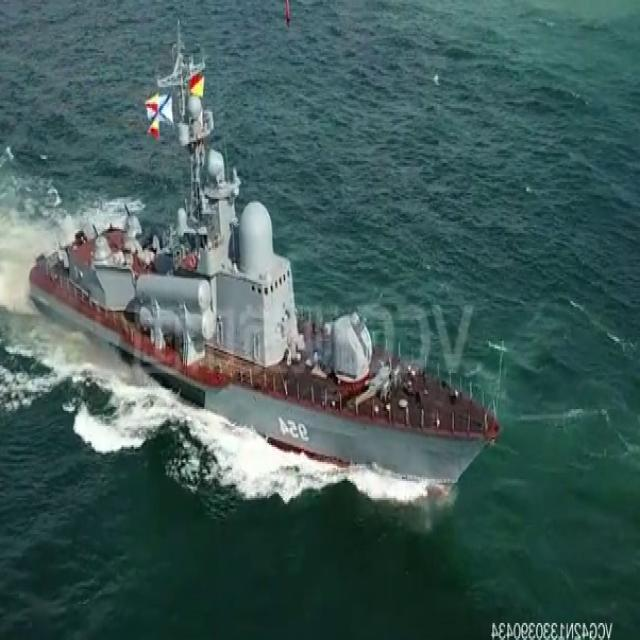navalvessels: (31, 29, 500, 491)
